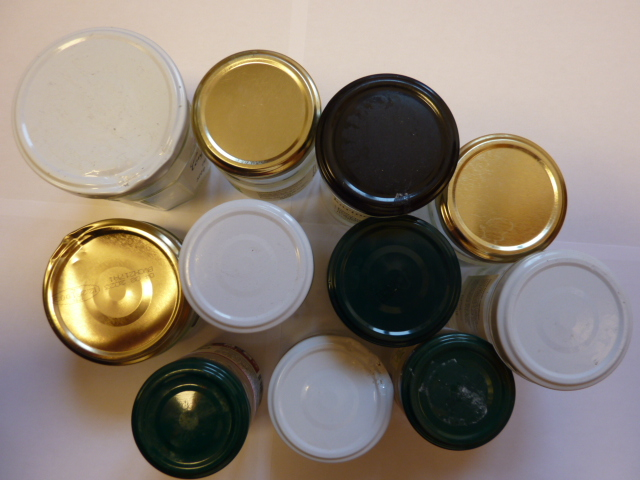damaged: (12, 28, 186, 195), (41, 221, 183, 362)
intact: (317, 75, 459, 212), (182, 201, 315, 332), (402, 333, 513, 452)
